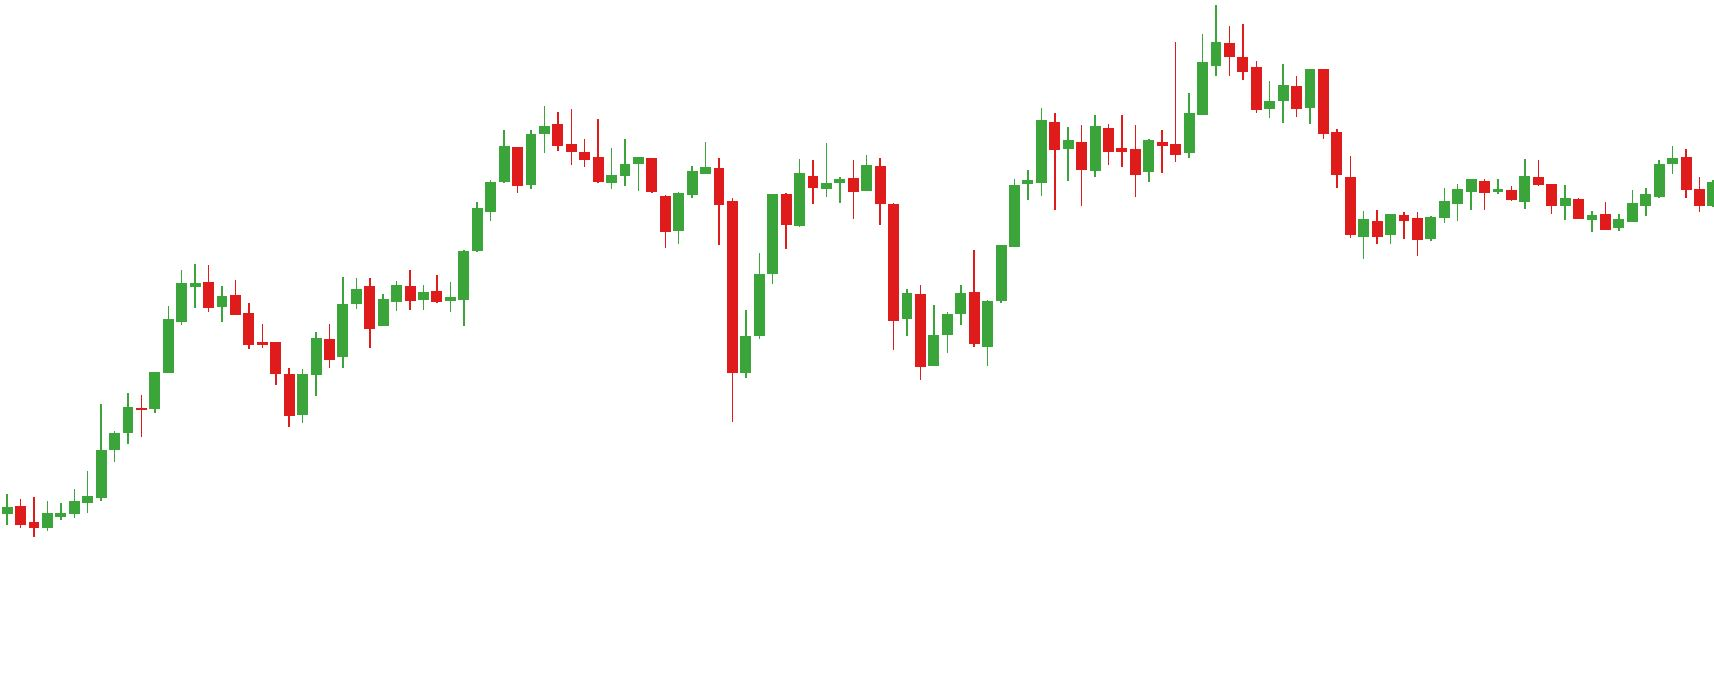buy: (453, 206, 767, 429)
